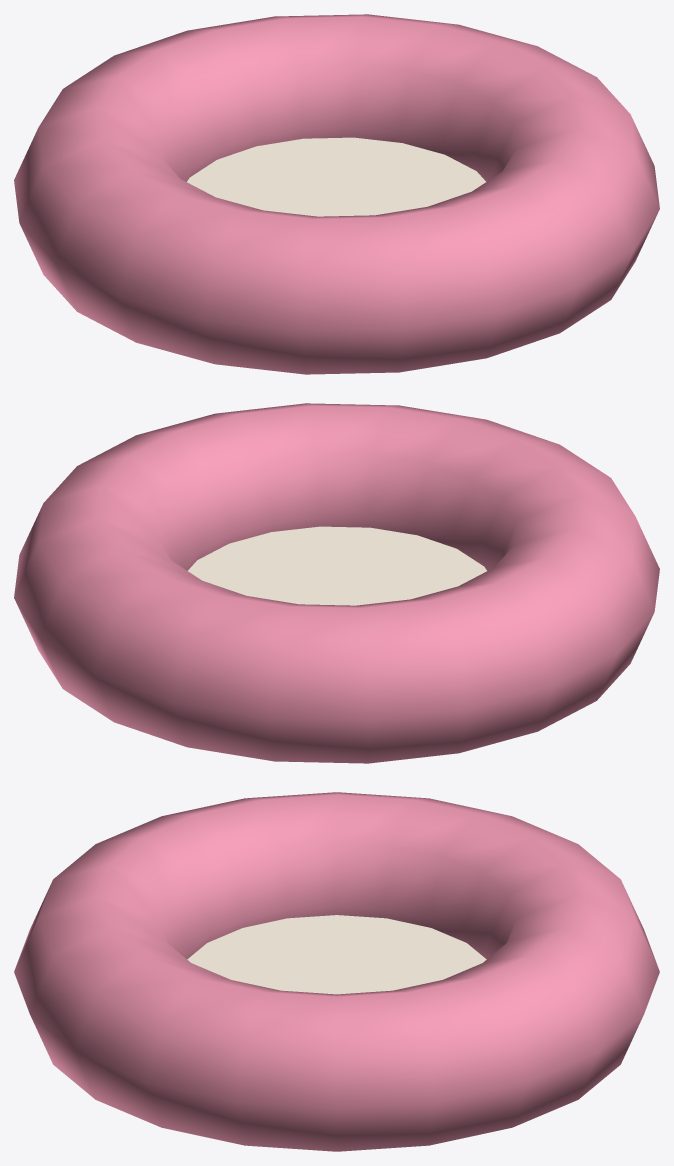
The model's file is pet_bed.glb.
The picture shows the model from 3 angles, top to bottom: view 1: azimuth 30°, elevation 25°; view 2: azimuth 150°, elevation 25°; view 3: azimuth 270°, elevation 25°; orthographic projection.
Parts seen in each view (by area): view 1: pet_bed; view 2: pet_bed; view 3: pet_bed.
Part boxes in pixels (bbox=[...]): pet_bed: bbox=[14, 14, 659, 374]; pet_bed: bbox=[14, 403, 659, 763]; pet_bed: bbox=[14, 792, 659, 1151].
Size of the model in its own units: 27 by 7 by 27.
